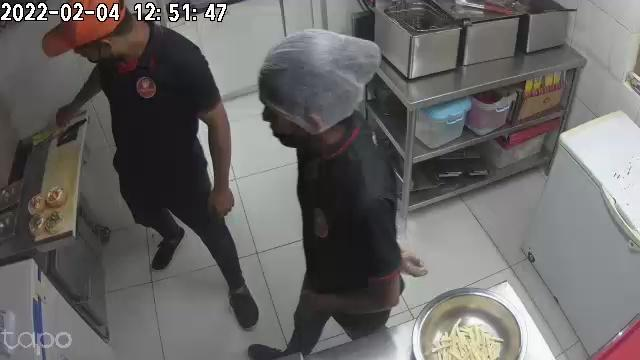no_gloves: (210, 168, 231, 220)
